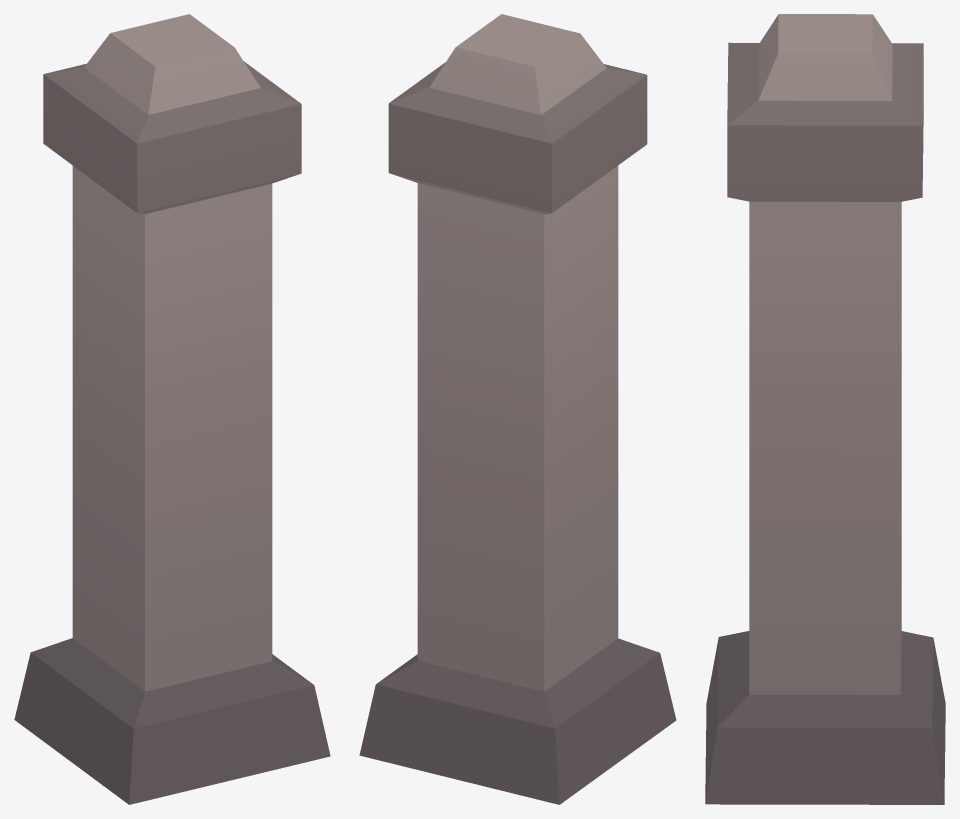
Rendered from village_town_pillar.glb.
The picture shows the model from 3 angles, left to right: view 1: azimuth 30°, elevation 25°; view 2: azimuth 150°, elevation 25°; view 3: azimuth 270°, elevation 25°; orthographic projection. The views are drawn at different scales.
Visible parts, largest first — view 1: Pillar.001_Material.005_0; view 2: Pillar.001_Material.005_0; view 3: Pillar.001_Material.005_0.
Boxes of the visible parts, left/top/right/bottom form: Pillar.001_Material.005_0: left=14, top=14, right=330, bottom=804; Pillar.001_Material.005_0: left=359, top=14, right=676, bottom=804; Pillar.001_Material.005_0: left=705, top=14, right=945, bottom=804.
Bounding box in the file's own units: 0.38 × 1.26 × 0.38.
Materials: 1 (1 with a texture image).
